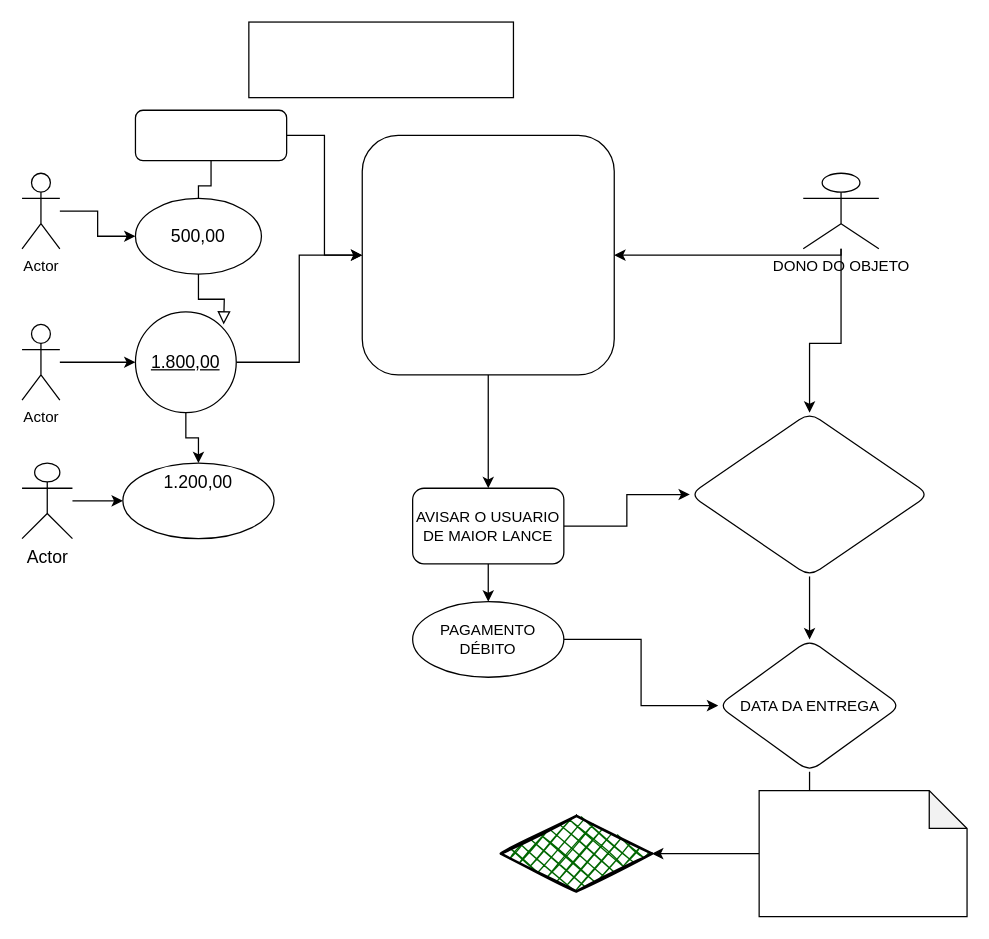
The diagram is 989 pixels wide and 939 high, and some of its shapes have lost their labels. Here are the shapes that lost their labels. From the top down, the centre of each, then its label:
point 380,59: LEILÃO DE CAVALO
point 210,135: FAZER LANCE
point 487,254: MAIOR LANCE
point 809,493: DADOS DO VENCEDOR PARA ENTREGA
point 862,853: DOCUMENTO DE CONFIRMAÇÃO DE ENREGA
